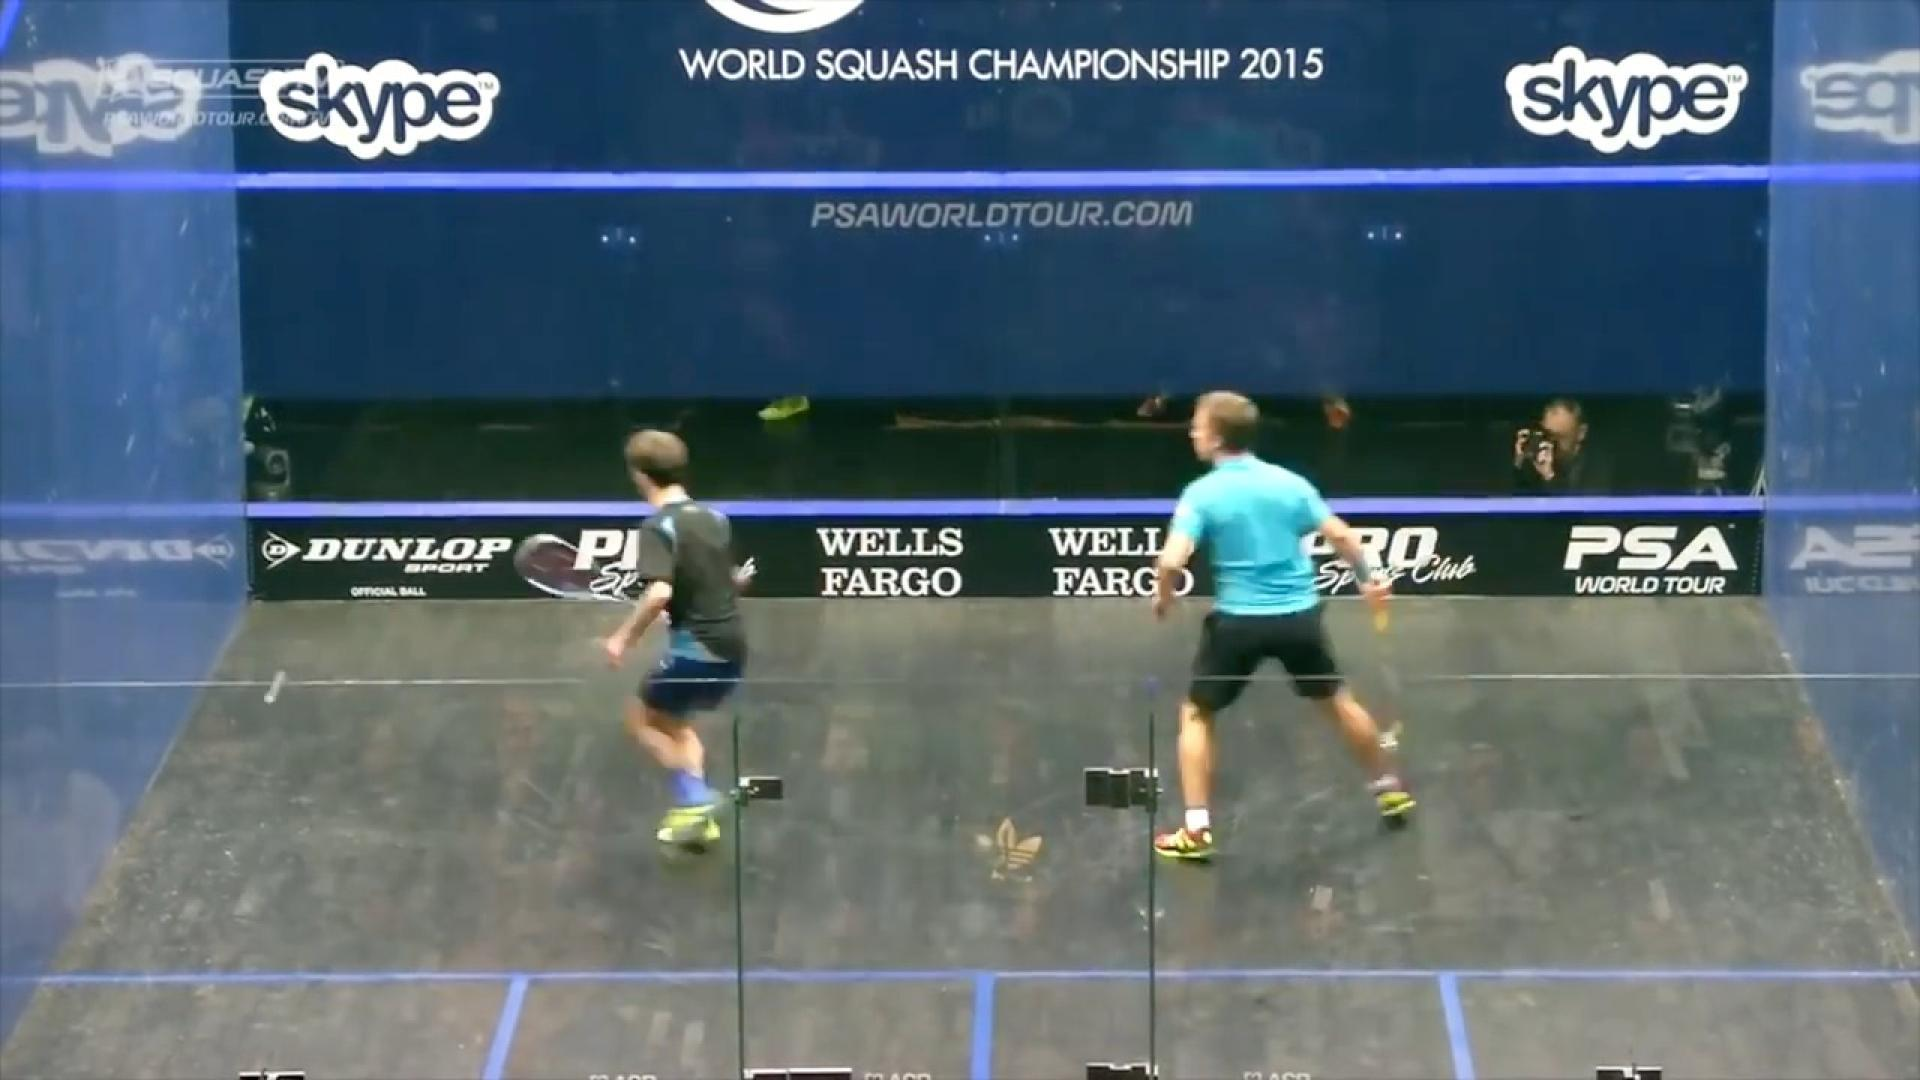Squash-Ball: (244, 659, 298, 720)
